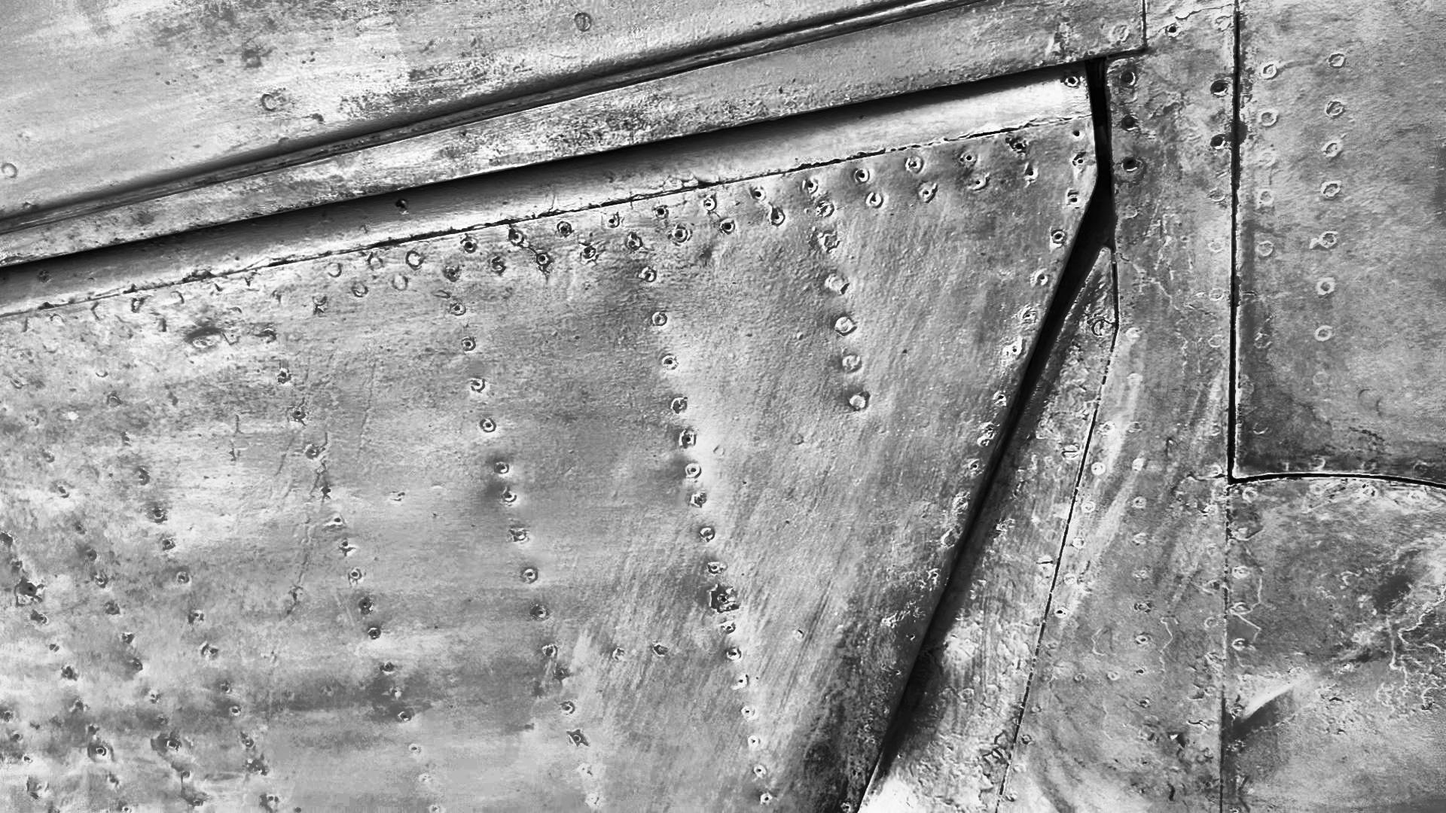dent: (1231, 685, 1293, 734), (923, 632, 960, 681), (186, 326, 218, 352)
missing-head: (1120, 70, 1137, 87), (1209, 79, 1224, 98), (1120, 158, 1139, 171), (1211, 136, 1224, 151), (1128, 117, 1139, 130)
